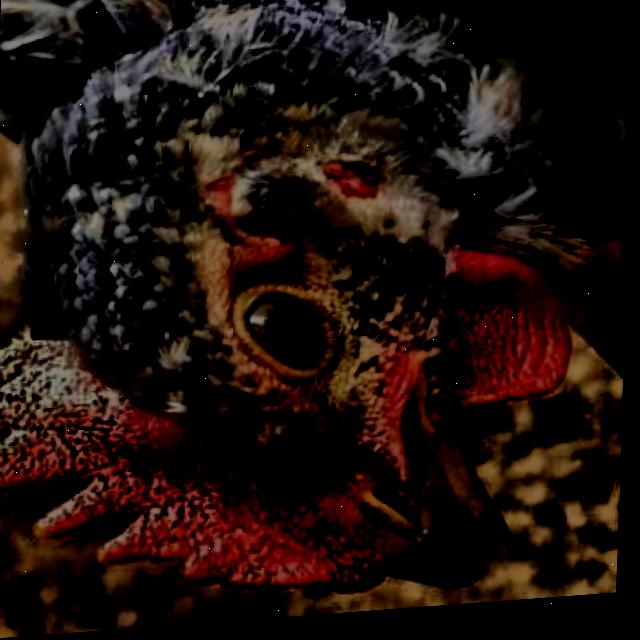Healthy: (218, 251, 347, 415)
